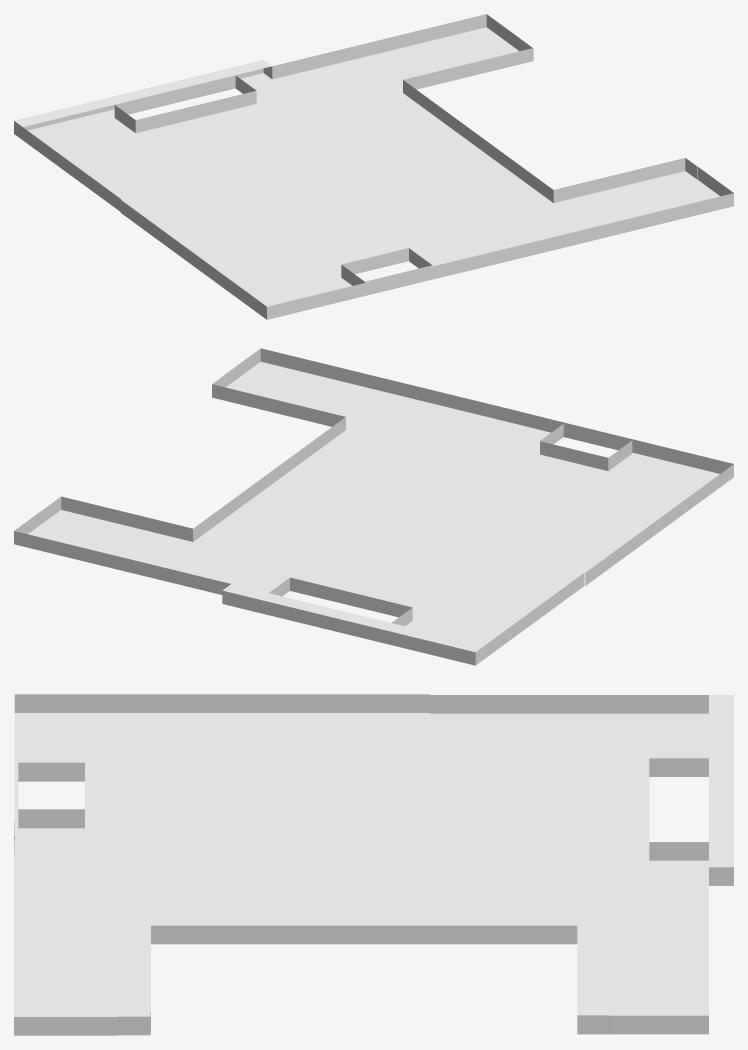
The model's file is celing_2f.fbx.
The picture shows the model from 3 angles, top to bottom: view 1: azimuth 30°, elevation 25°; view 2: azimuth 150°, elevation 25°; view 3: azimuth 270°, elevation 25°; orthographic projection. The views are drawn at different scales.
Visible parts, largest first — view 1: celing_2f; view 2: celing_2f; view 3: celing_2f.
Boxes of the visible parts, left/top/right/bottom form: celing_2f: left=14, top=14, right=733, bottom=319; celing_2f: left=14, top=348, right=733, bottom=665; celing_2f: left=14, top=694, right=733, bottom=1035.
Size of the model in its own units: 0.4986 by 0.0135 by 0.4702.
1 material, 1 textured.
